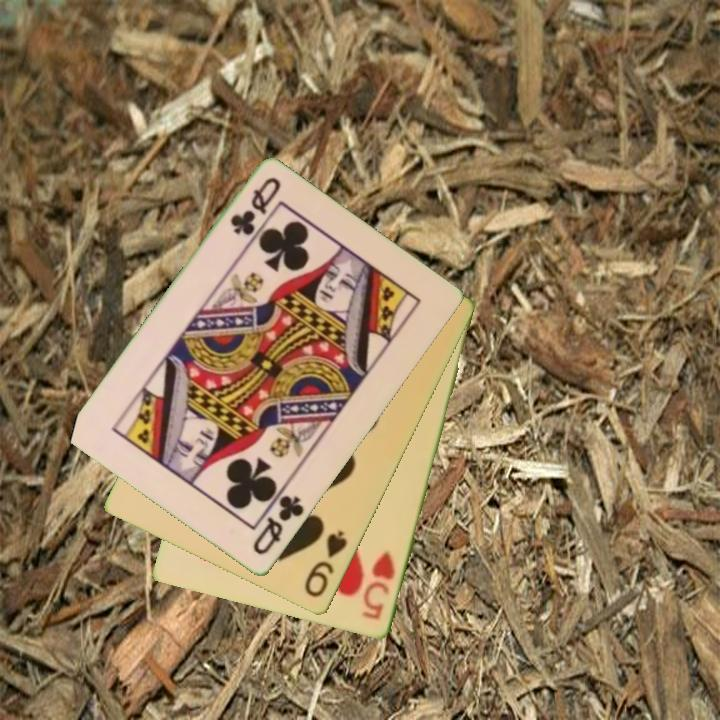5h: (358, 548, 399, 623)
9s: (301, 527, 351, 601)
Qc: (249, 483, 307, 559), (226, 174, 284, 239)
